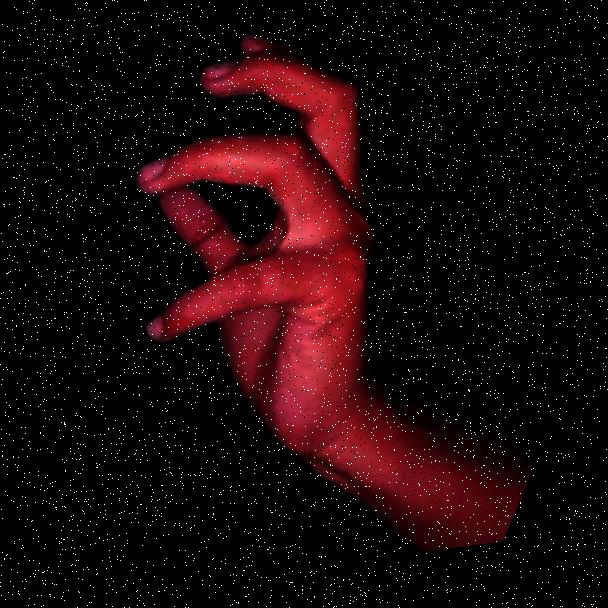five: (28, 0, 499, 529)
